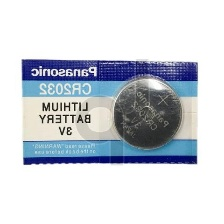battery: (107, 75, 185, 153)
